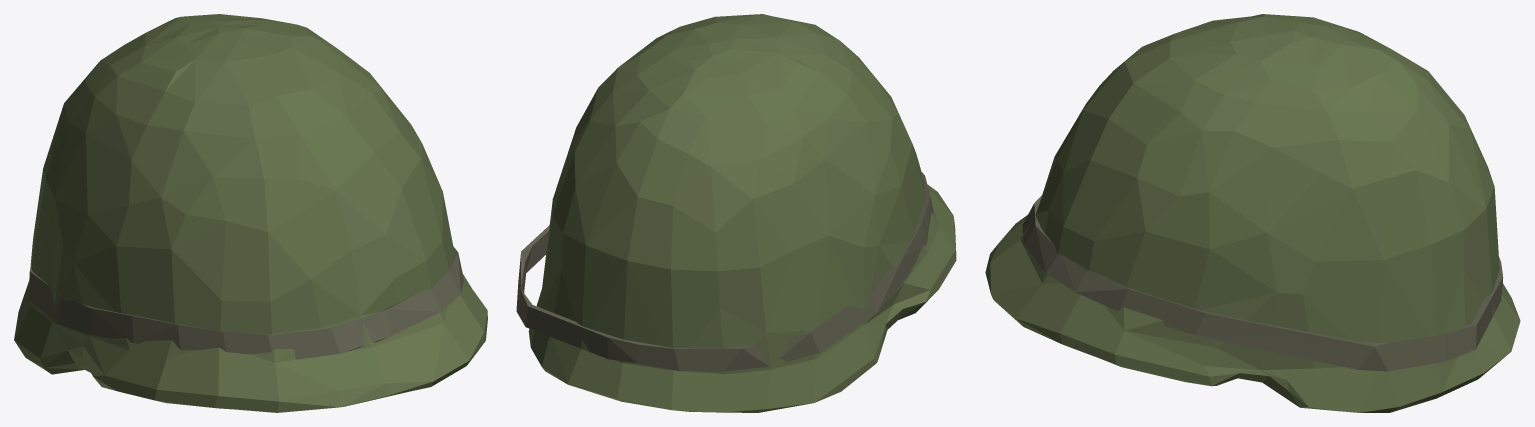
Rendered from m1_war_is_hell.glb.
3 renders of one model, left to right at view 1: azimuth 30°, elevation 25°; view 2: azimuth 150°, elevation 25°; view 3: azimuth 270°, elevation 25°, orthographic. The views are drawn at different scales.
Visible parts, largest first — view 1: helmet_war_is_hell_cover, helmet_war_is_hell_band; view 2: helmet_war_is_hell_cover, helmet_war_is_hell_band; view 3: helmet_war_is_hell_cover, helmet_war_is_hell_band.
Boxes of the visible parts, left/top/right/bottom form: helmet_war_is_hell_cover: left=14, top=14, right=487, bottom=412; helmet_war_is_hell_band: left=29, top=246, right=463, bottom=359; helmet_war_is_hell_cover: left=528, top=14, right=956, bottom=412; helmet_war_is_hell_band: left=516, top=172, right=933, bottom=371; helmet_war_is_hell_cover: left=985, top=14, right=1520, bottom=412; helmet_war_is_hell_band: left=1022, top=195, right=1503, bottom=371.
Bounding box in the file's own units: 0.2289 × 0.1917 × 0.3044.
